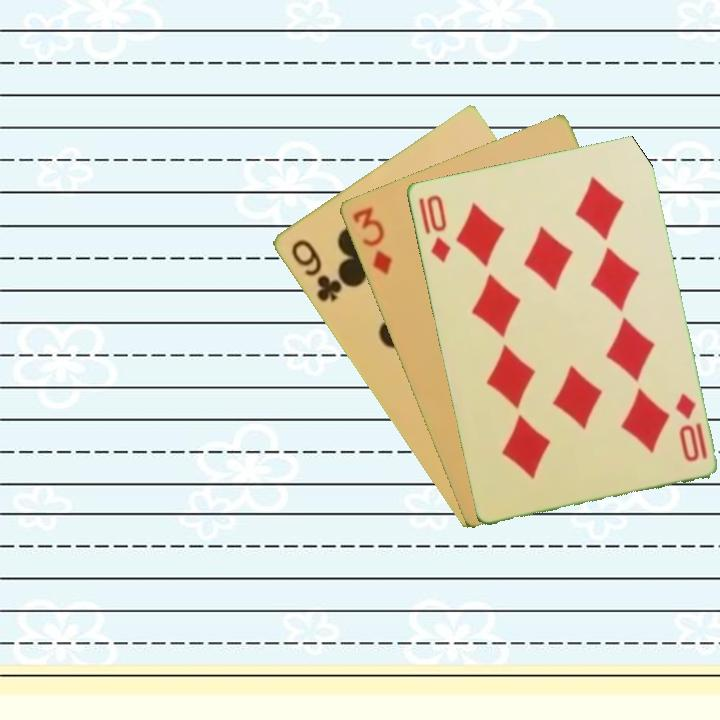10d: (414, 191, 453, 265), (671, 390, 710, 464)
3d: (348, 203, 395, 277)
9c: (287, 235, 345, 305)
